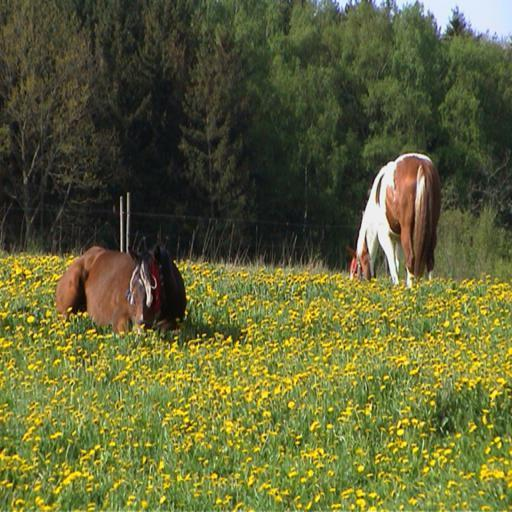horse: (53, 245, 186, 344), (348, 153, 442, 293)
